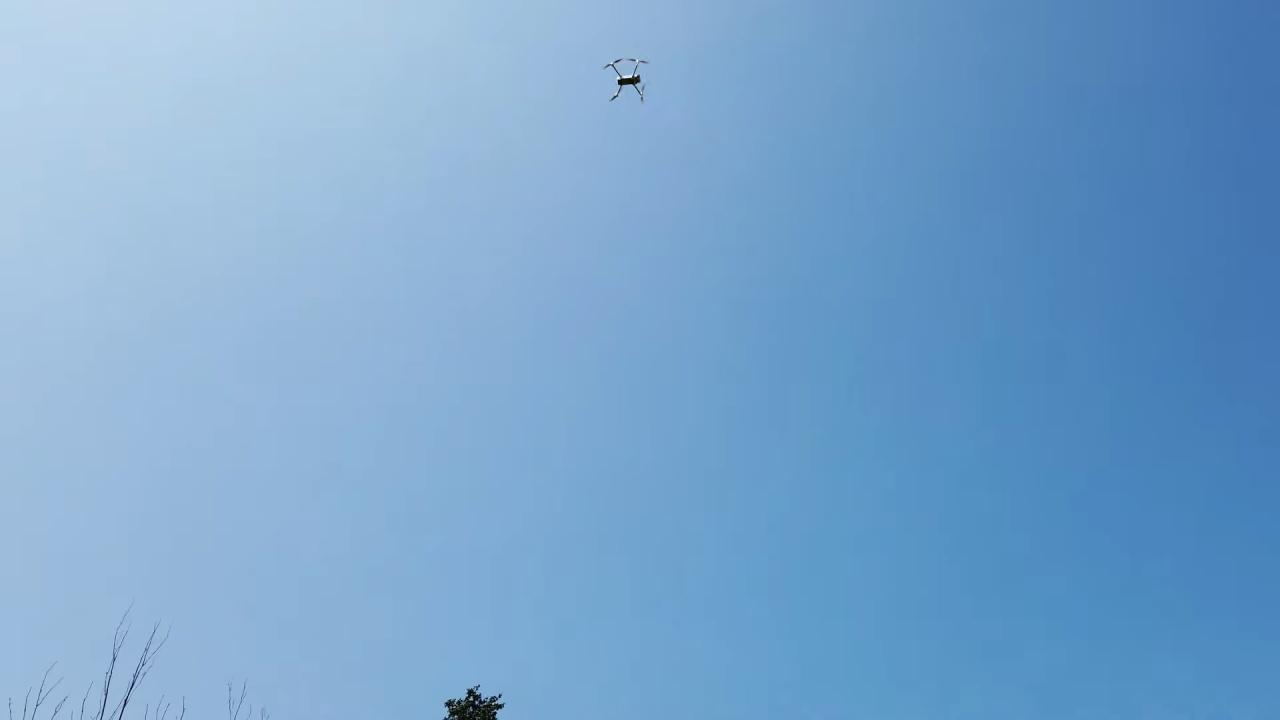Drone: (598, 50, 656, 110)
